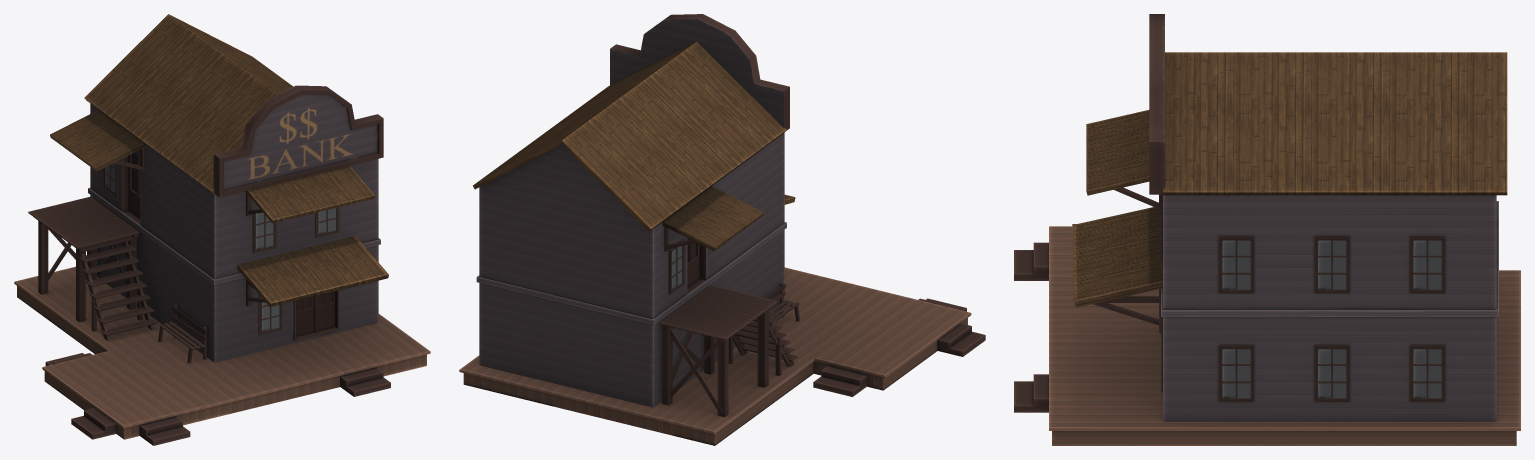
The model's file is Bank2.fbx.
The picture shows the model from 3 angles, left to right: view 1: azimuth 30°, elevation 25°; view 2: azimuth 150°, elevation 25°; view 3: azimuth 270°, elevation 25°; orthographic projection. The views are drawn at different scales.
Visible parts, largest first — view 1: Building_8; view 2: Building_8; view 3: Building_8.
Part boxes in pixels (box(x1,y1,x2,y2)): Building_8: box(14, 14, 430, 445); Building_8: box(459, 14, 985, 445); Building_8: box(1014, 14, 1520, 445).
Size of the model in its own units: 333 by 262 by 330.
